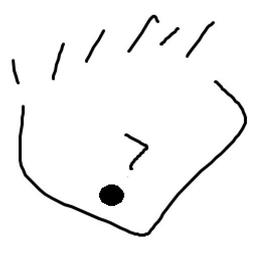open_mouth: (92, 181, 131, 210)
pointy_nose: (120, 127, 155, 173)
